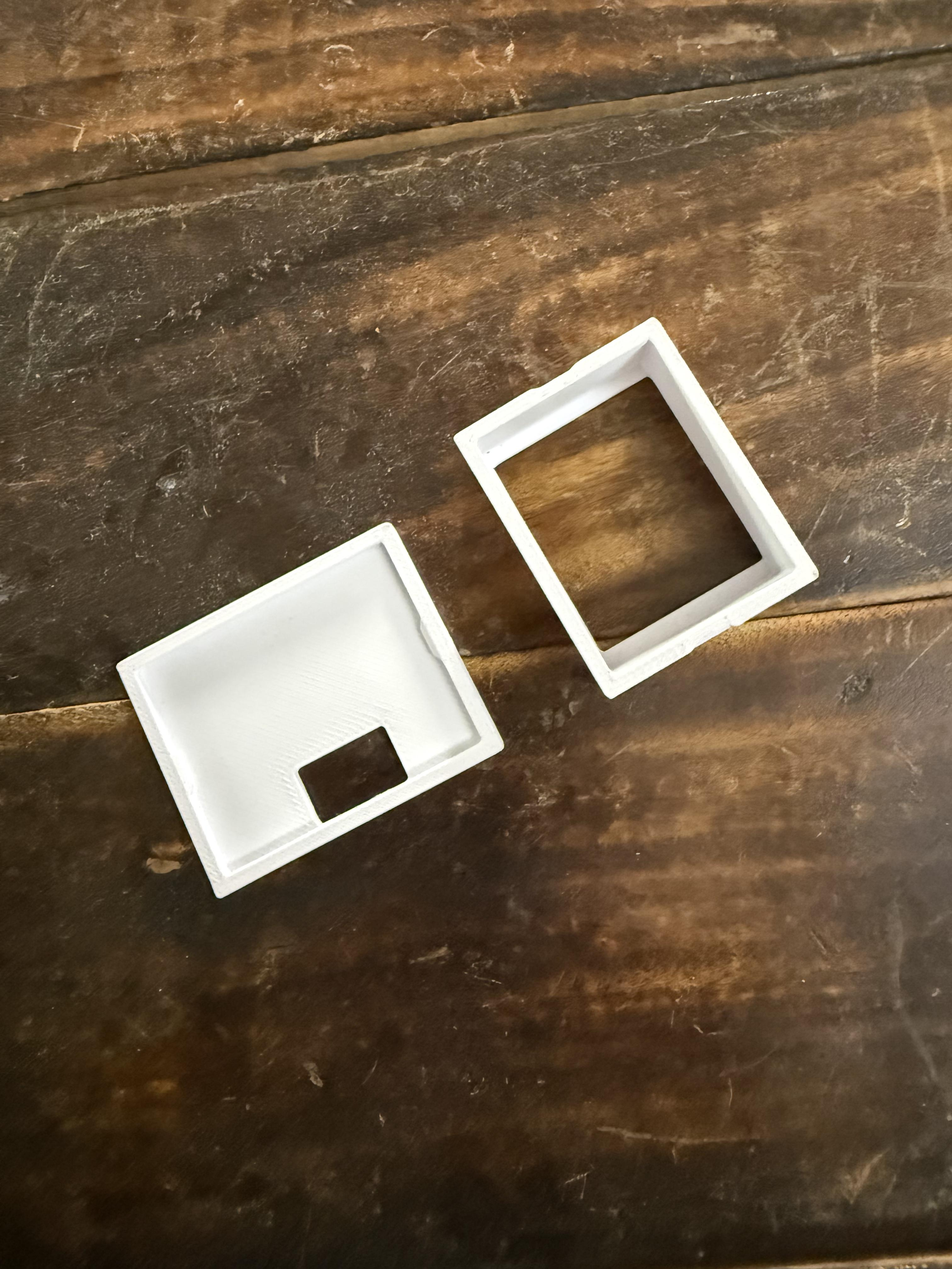enclosure: (115, 522, 505, 899), (453, 317, 819, 699)
